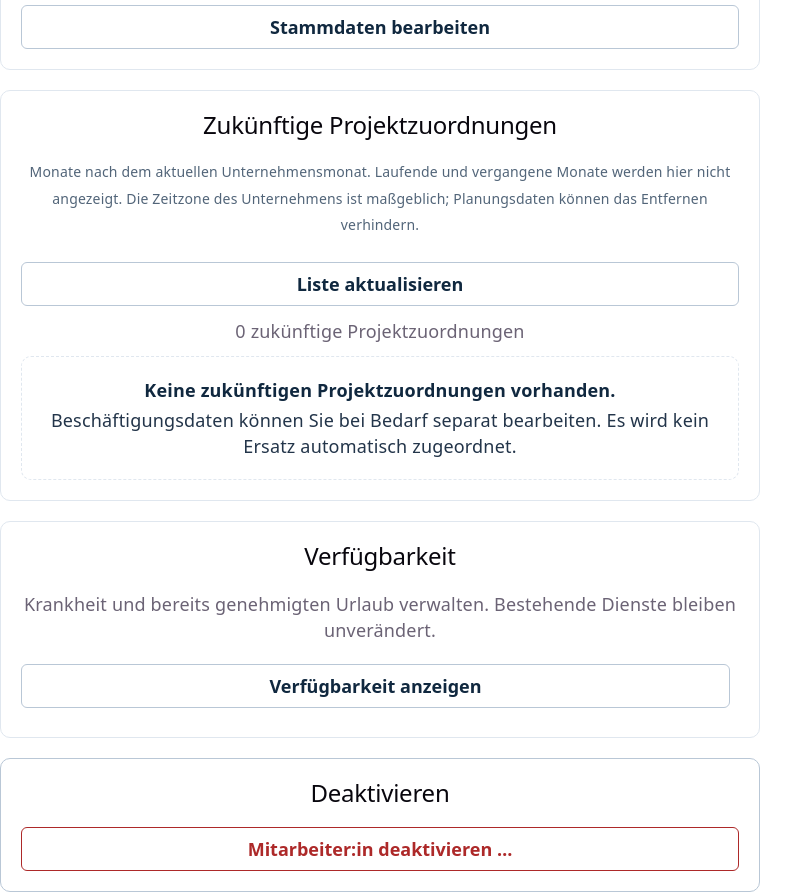
Test case: SP-07 — employee detail › reloads when someone else already deactivated the record (409 EMPLOYEE_INACTIVE)
The width and height of the screenshot is (812, 892).
(page scrolled)
Click the button "Mitarbeiter:in deaktivieren …". click: (380, 849)
box: [21,827,739,871]
(page scrolled)
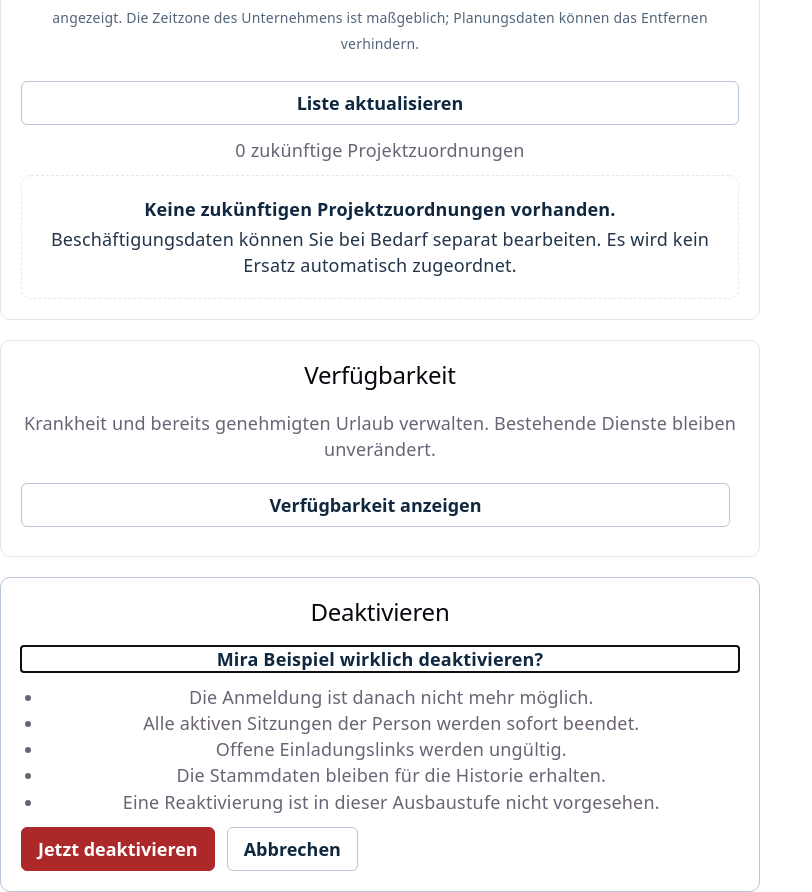
Click the button "Jetzt deaktivieren". click: (118, 849)
box: [21,827,215,871]
(page scrolled)
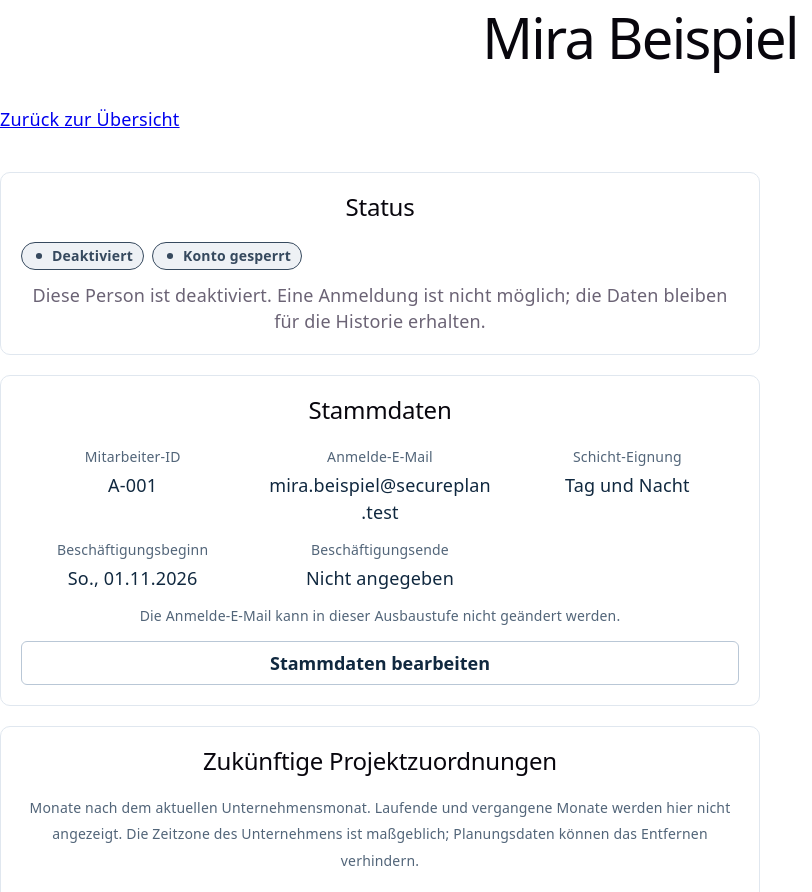
Now the element "Status" shows "Konto gesperrt", box [183,246,291,264]
